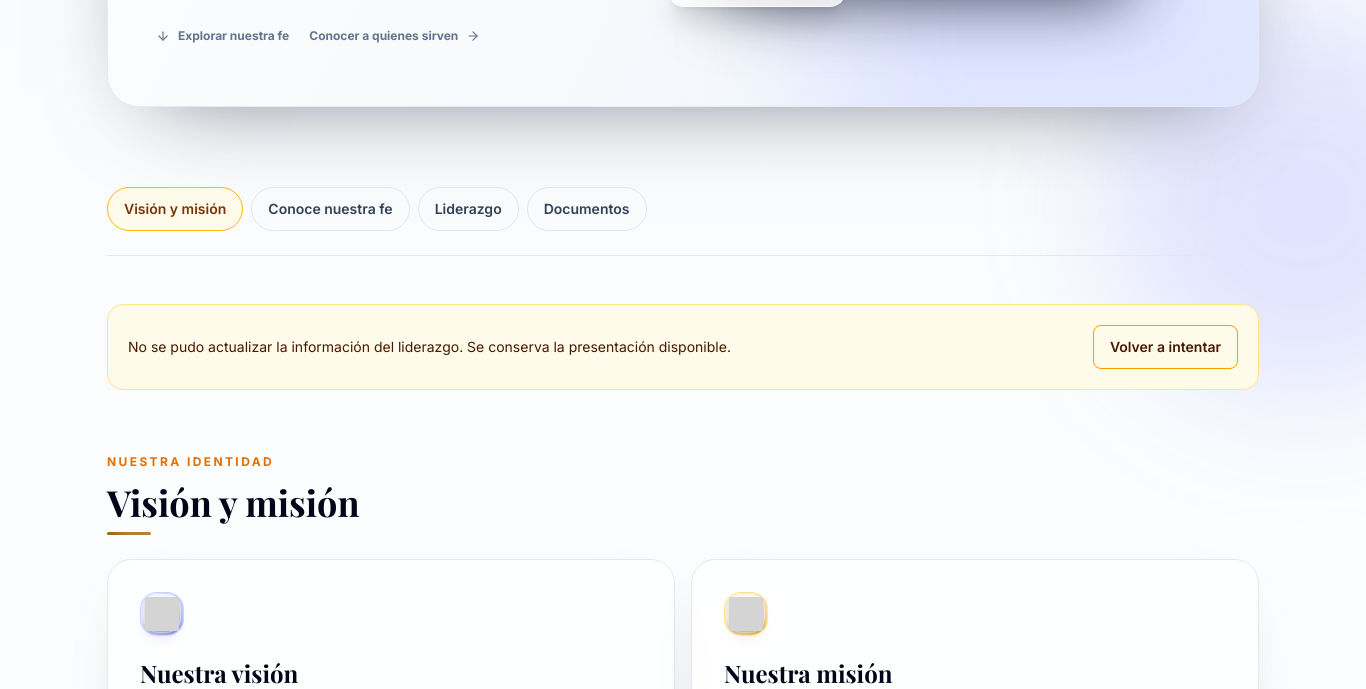
Test case: Nosotros público › conserva la página cuando rechaza una consulta y permite reintentar sin consulta insegura
(page scrolled)
expect the message shows "No se pudo actualizar": met, box [128,338,731,355]
Click the button "Volver a intentar" at point(1165, 347), box [1093,325,1238,369]
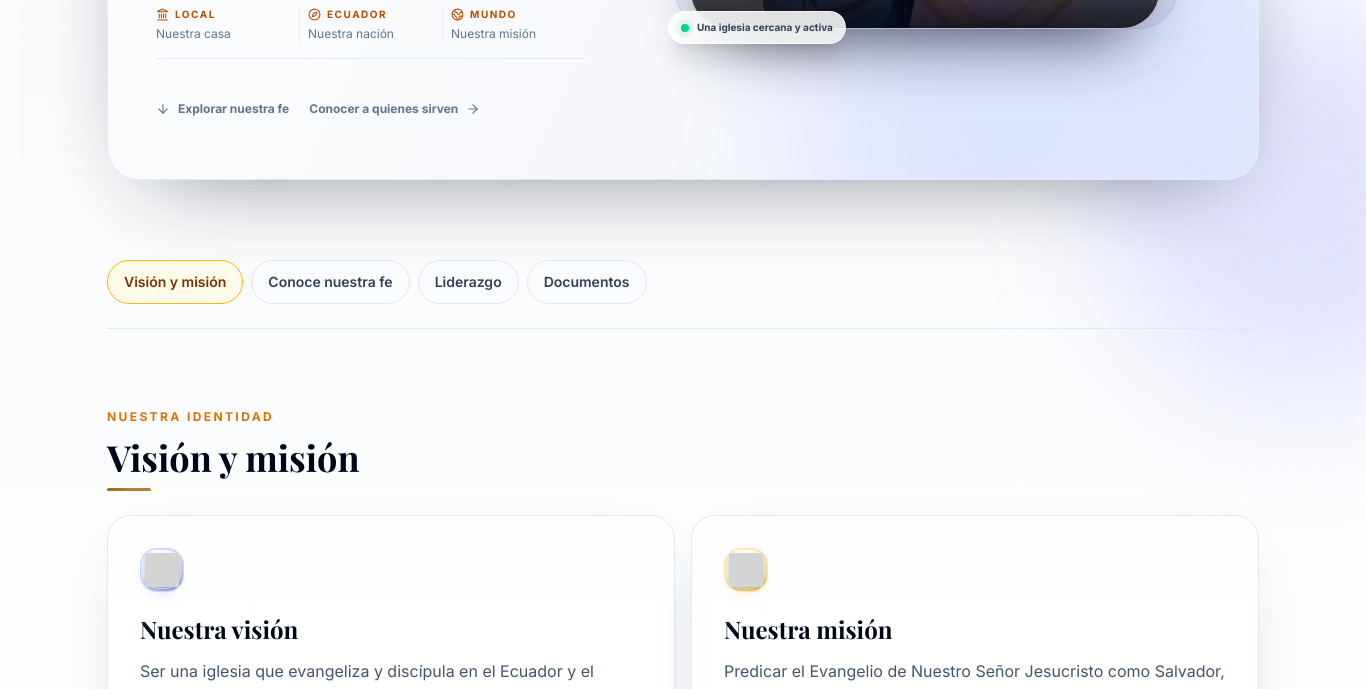
expect the message "No se pudo actualizar la información del liderazgo. Se conserva la presentación" is gone: met
